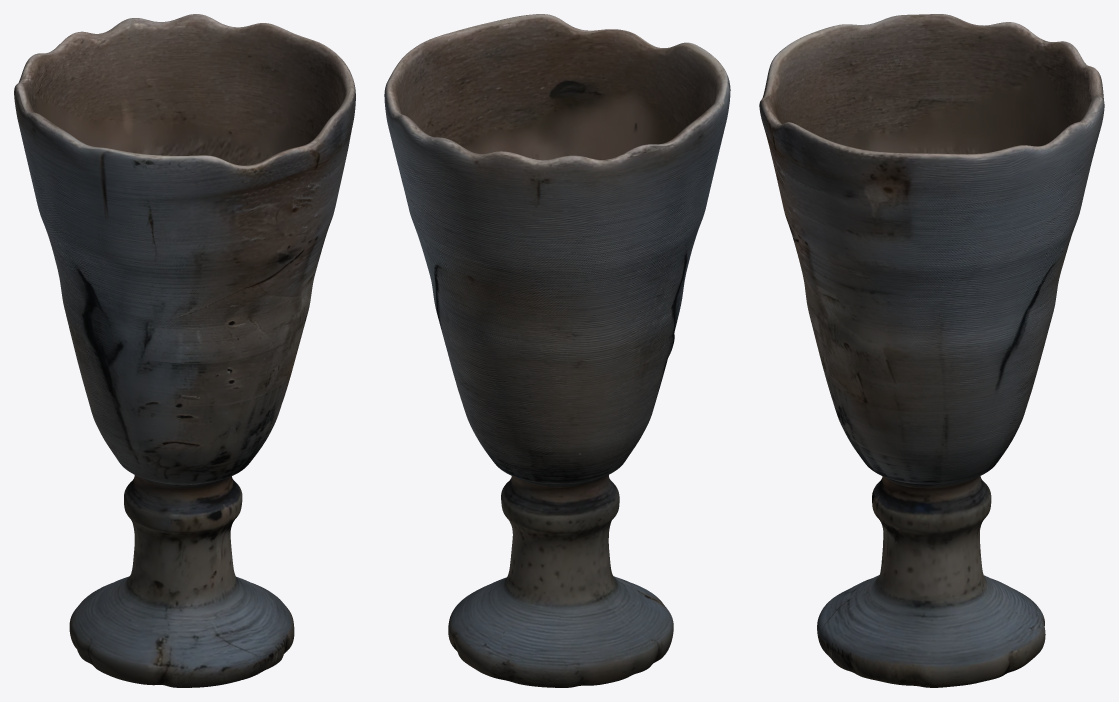
The model's file is 020-kompleks-arheologicheskih-kubkov-i-sosudov.glb.
3 views of the same model, side by side, from view 1: azimuth 30°, elevation 25°; view 2: azimuth 150°, elevation 25°; view 3: azimuth 270°, elevation 25° (orthographic).
Parts seen in each view (by area): view 1: node_0; view 2: node_0; view 3: node_0.
Boxes of the visible parts, x1=… form: node_0: x1=14, y1=14, x2=355, y2=687; node_0: x1=384, y1=14, x2=730, y2=687; node_0: x1=759, y1=14, x2=1104, y2=687.
Size of the model in its own units: 0.584 by 1.05 by 0.5861.
Materials: 1 (1 with a texture image).
